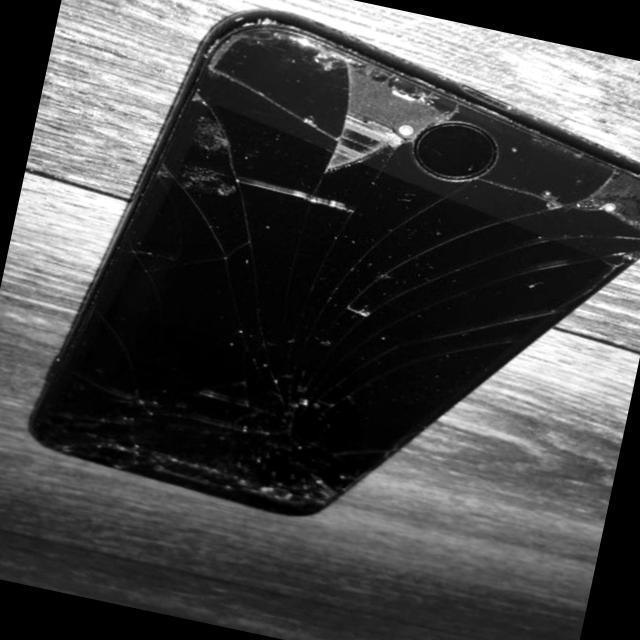Crack: (20, 10, 640, 553)
